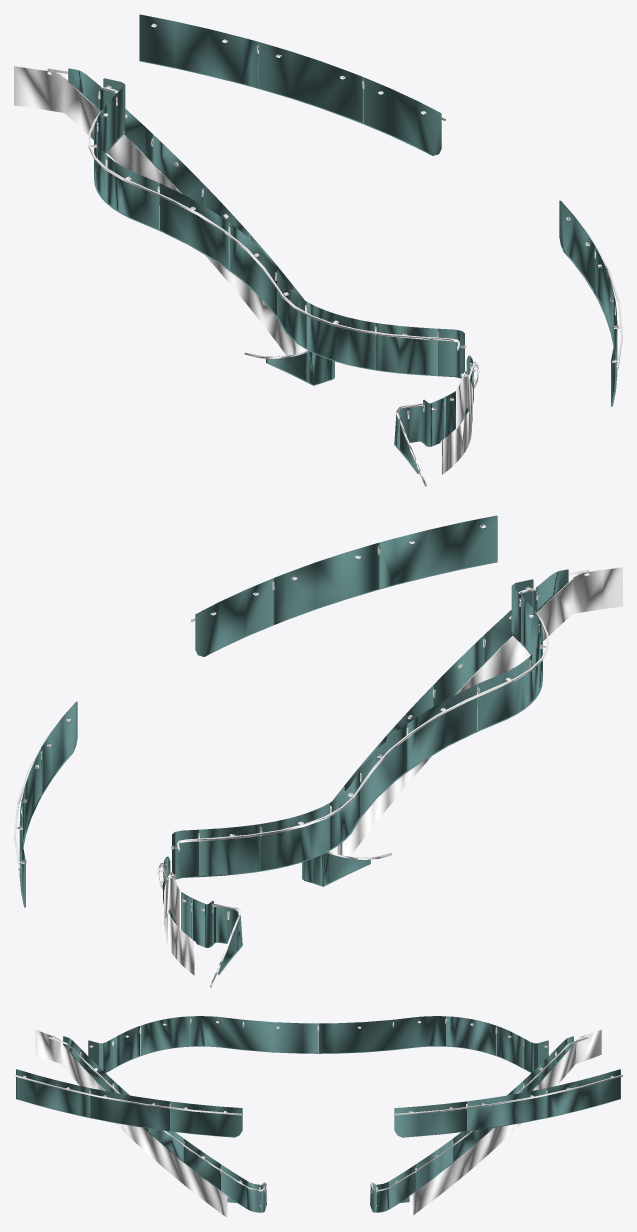
File: fl_showfloor_stairs_b.glb
3 views of the same model, one above another, from view 1: azimuth 30°, elevation 25°; view 2: azimuth 150°, elevation 25°; view 3: azimuth 270°, elevation 25° (orthographic). The views are drawn at different scales.
Bounding box in the file's own units: 9.61 × 7.03 × 25.85.
